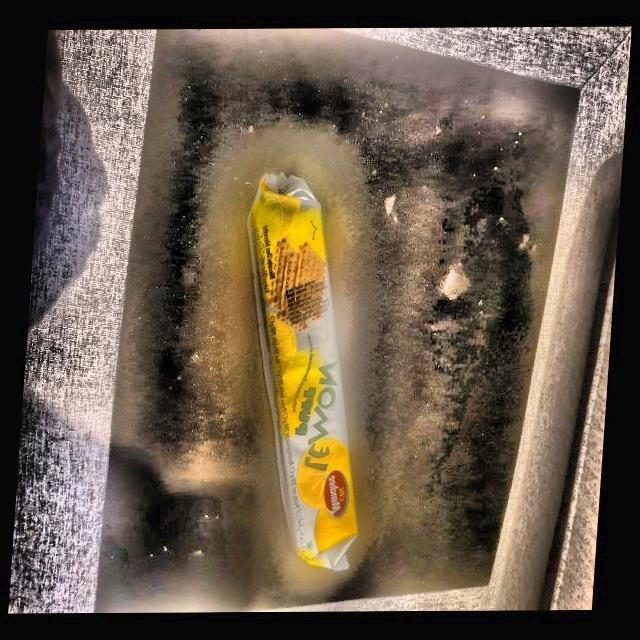lemon puff: (243, 169, 378, 571)
